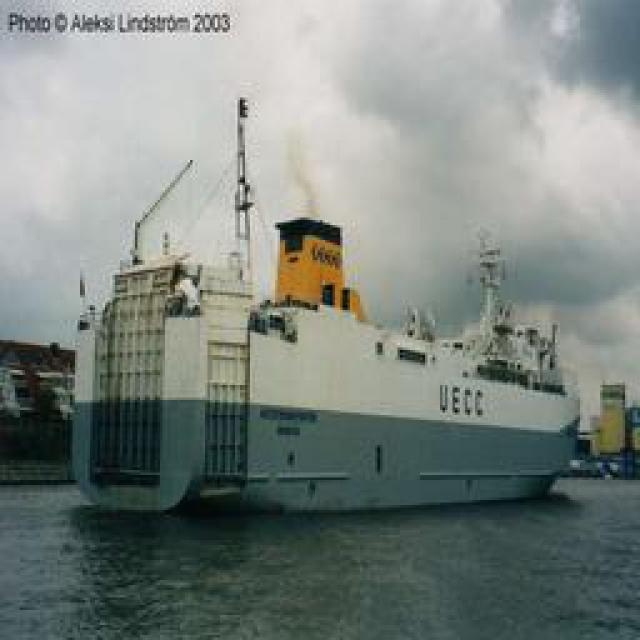Ship: (60, 207, 581, 518)
